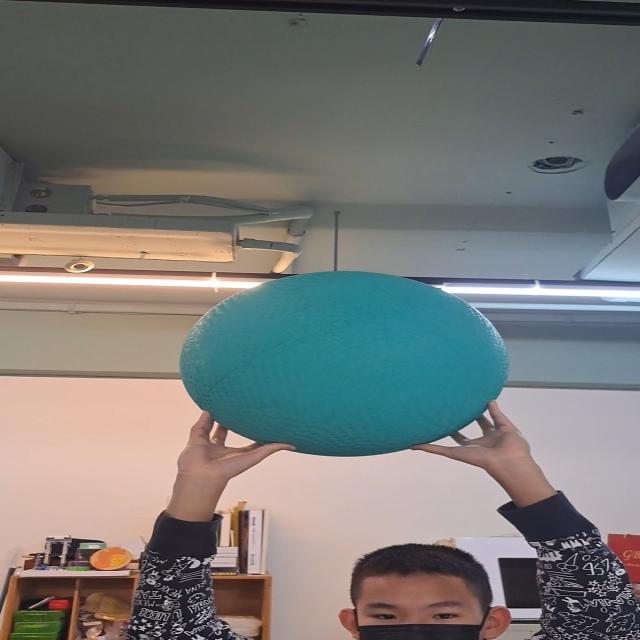ALGAE: (181, 270, 504, 457)
